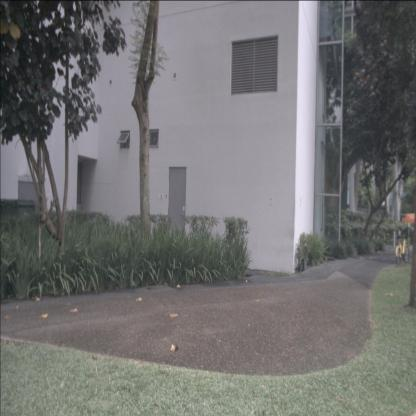vehicle-bicycle: (395, 225, 409, 266)
